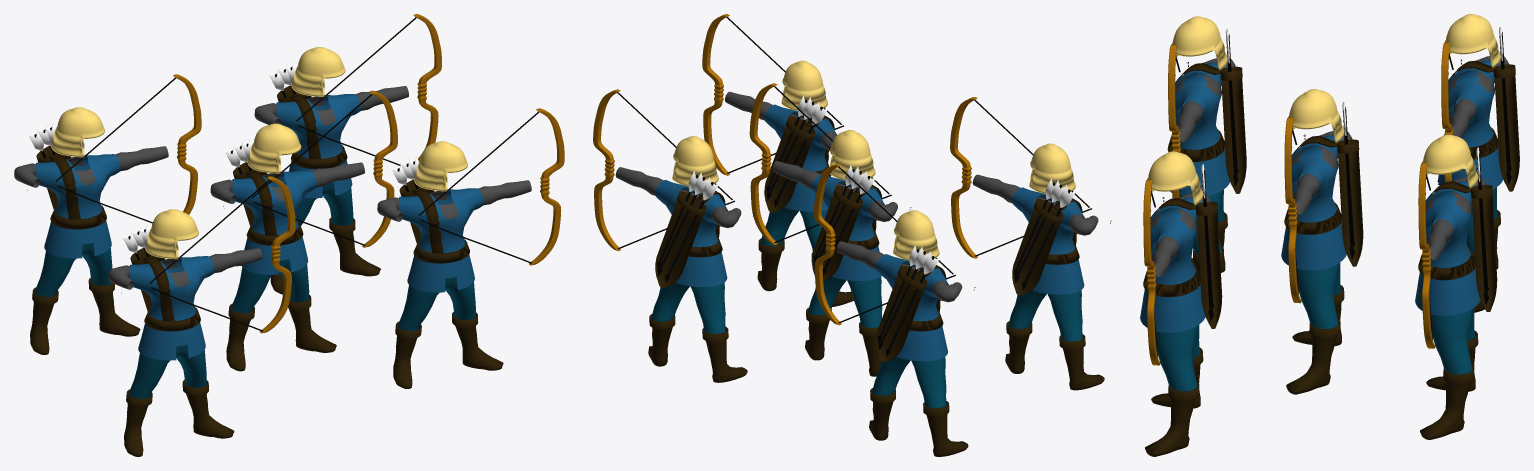
The model's file is Archers.glb.
3 views of the same model, side by side, from view 1: azimuth 30°, elevation 25°; view 2: azimuth 150°, elevation 25°; view 3: azimuth 270°, elevation 25° (orthographic). The views are drawn at different scales.
Parts seen in each view (by area): view 1: Archers.003, Archers.002, Archers.004, Archers, Archers.001; view 2: Archers.002, Archers.001, Archers.004, Archers, Archers.003; view 3: Archers.001, Archers.003, Archers, Archers.002, Archers.004.
Part boxes in pixels (left/top/right/bottom): Archers.003: left=377, top=108, right=564, bottom=388; Archers.002: left=108, top=176, right=295, bottom=456; Archers.004: left=14, top=74, right=201, bottom=354; Archers: left=210, top=90, right=397, bottom=371; Archers.001: left=254, top=14, right=441, bottom=294; Archers.002: left=950, top=97, right=1111, bottom=390; Archers.001: left=593, top=89, right=754, bottom=382; Archers.004: left=814, top=163, right=975, bottom=456; Archers: left=749, top=83, right=911, bottom=376; Archers.003: left=702, top=14, right=853, bottom=306; Archers.001: left=1415, top=134, right=1497, bottom=439; Archers.003: left=1140, top=151, right=1222, bottom=456; Archers: left=1281, top=89, right=1363, bottom=394; Archers.002: left=1167, top=16, right=1246, bottom=275; Archers.004: left=1438, top=14, right=1519, bottom=312.
Bounding box in the file's own units: 2.95 × 1.81 × 1.92.
